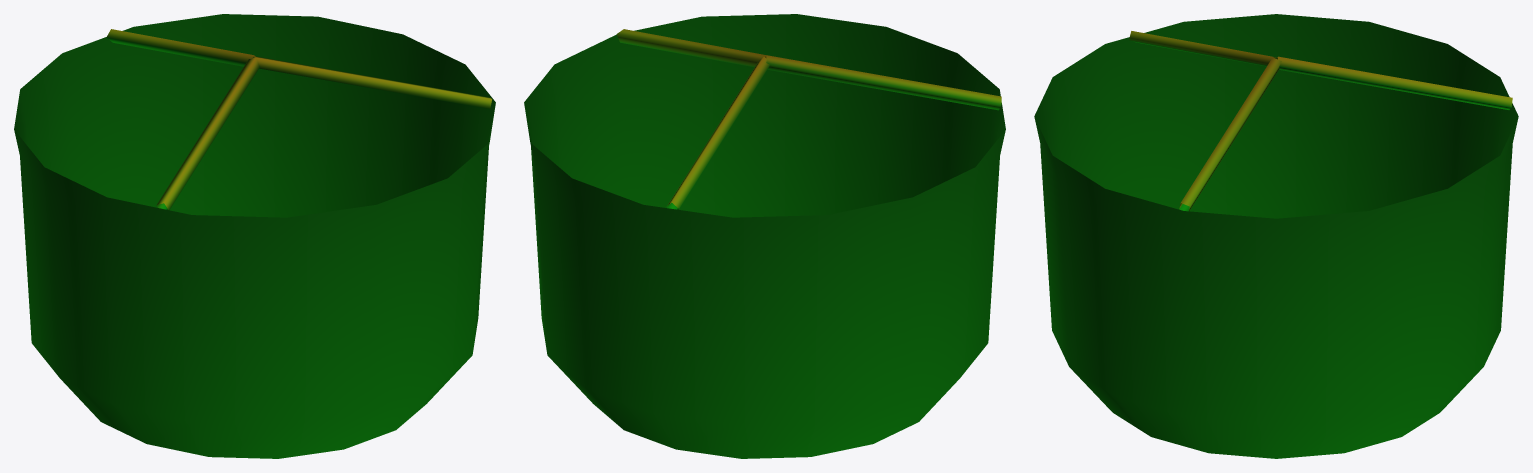
File: hoist_basket.glb
3 renders of one model, left to right at view 1: azimuth 30°, elevation 25°; view 2: azimuth 150°, elevation 25°; view 3: azimuth 270°, elevation 25°, orthographic.
Parts seen in each view (by area): view 1: hoist_basket; view 2: hoist_basket; view 3: hoist_basket.
Boxes of the visible parts, <box> form: hoist_basket: <box>14,14,495,458</box>; hoist_basket: <box>524,14,1005,458</box>; hoist_basket: <box>1034,14,1518,458</box>.
Size of what is drawn, in the model's own units: 0.82 by 0.6116 by 0.82.
